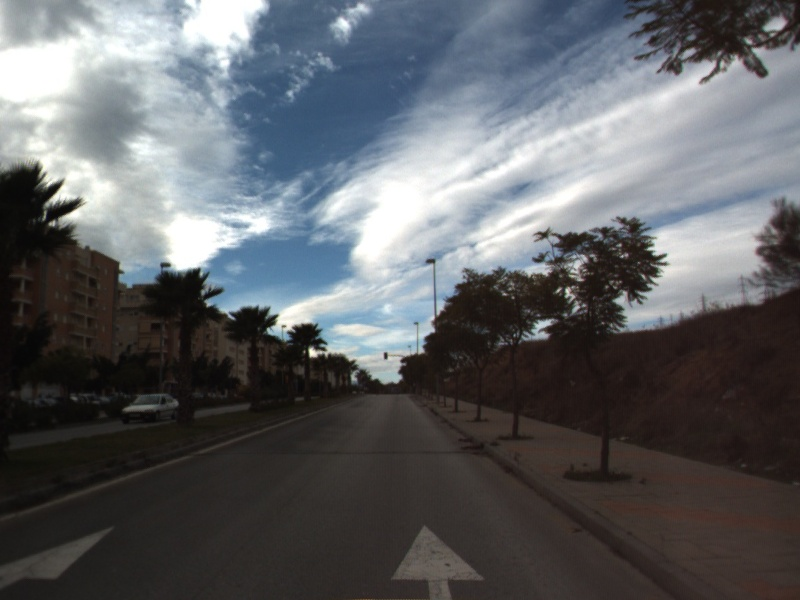STRAIGHT: (1, 523, 118, 592), (388, 522, 487, 600)
